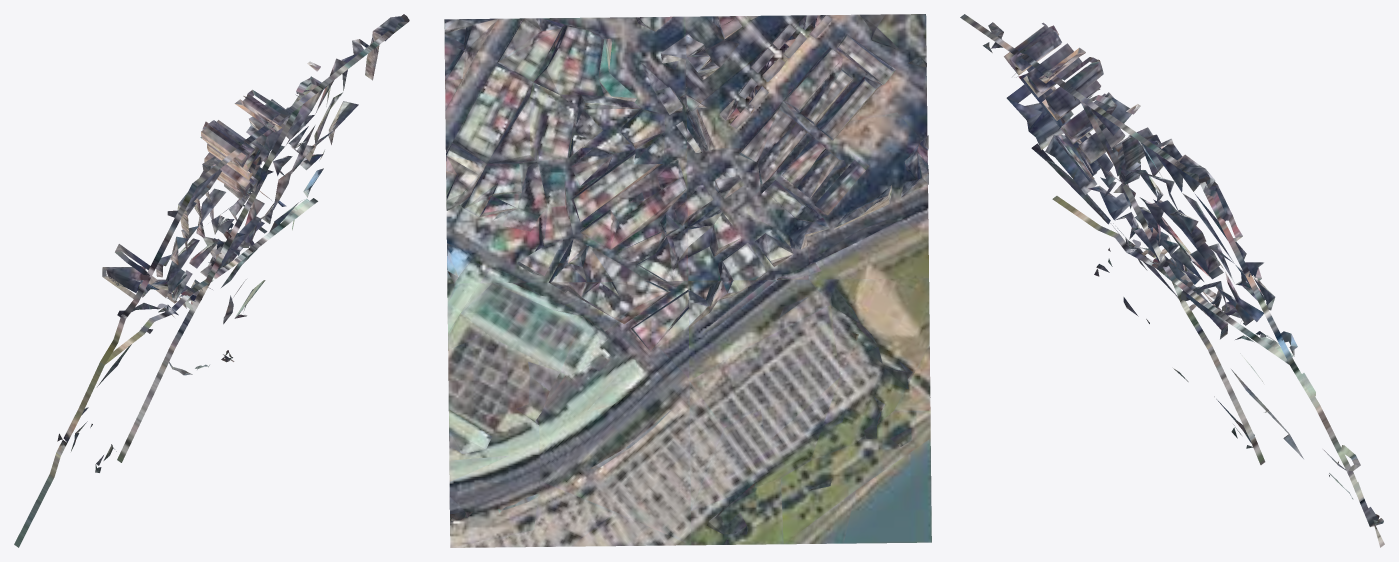
3 views of the same model, side by side, from view 1: azimuth 30°, elevation 25°; view 2: azimuth 150°, elevation 25°; view 3: azimuth 270°, elevation 25° (orthographic). The views are drawn at different scales.
Size of the model in its own units: 612 by 580 by 515.
2 materials, 2 textured.
